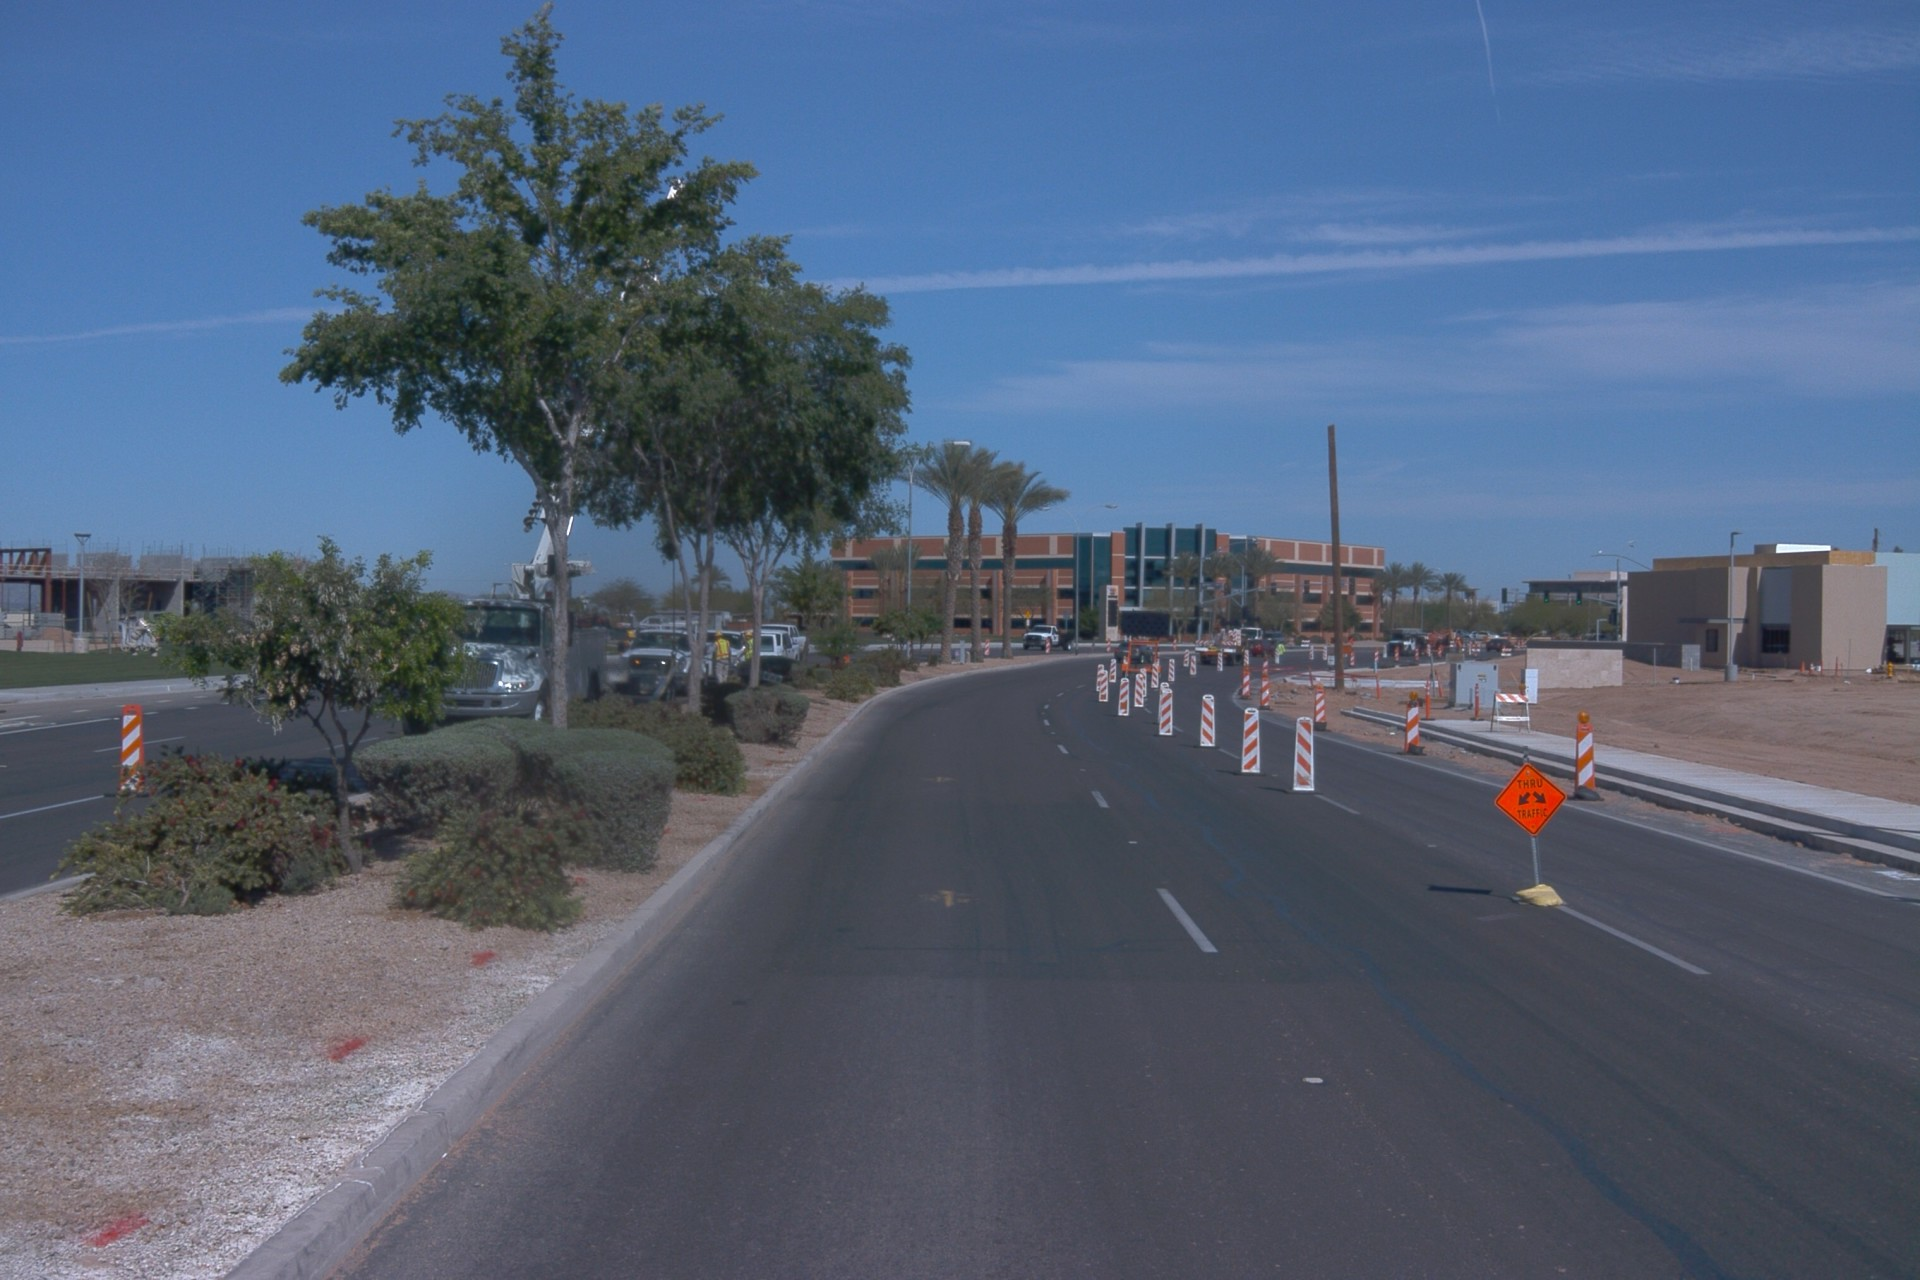TYPE_PEDESTRIAN: (703, 630, 735, 685), (738, 631, 755, 665), (1276, 639, 1285, 666)
TYPE_VEHICLE: (381, 165, 698, 745), (616, 537, 798, 715), (599, 619, 718, 701), (1113, 603, 1177, 694), (610, 599, 702, 645), (1193, 618, 1269, 668), (1381, 626, 1479, 660), (698, 630, 752, 682), (1018, 614, 1080, 649), (760, 622, 811, 663), (755, 623, 800, 668), (1238, 622, 1289, 649), (1113, 642, 1155, 666), (1245, 634, 1276, 657), (1262, 630, 1287, 649)
